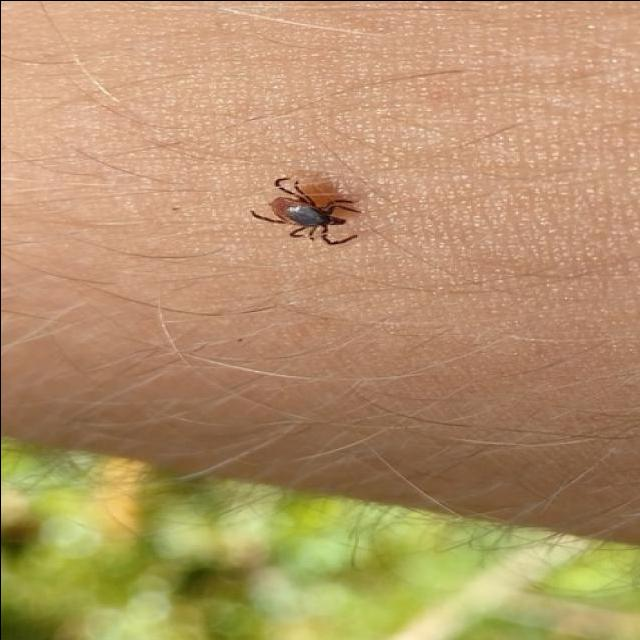Ixodes Ricinus-F: (249, 174, 367, 244)
